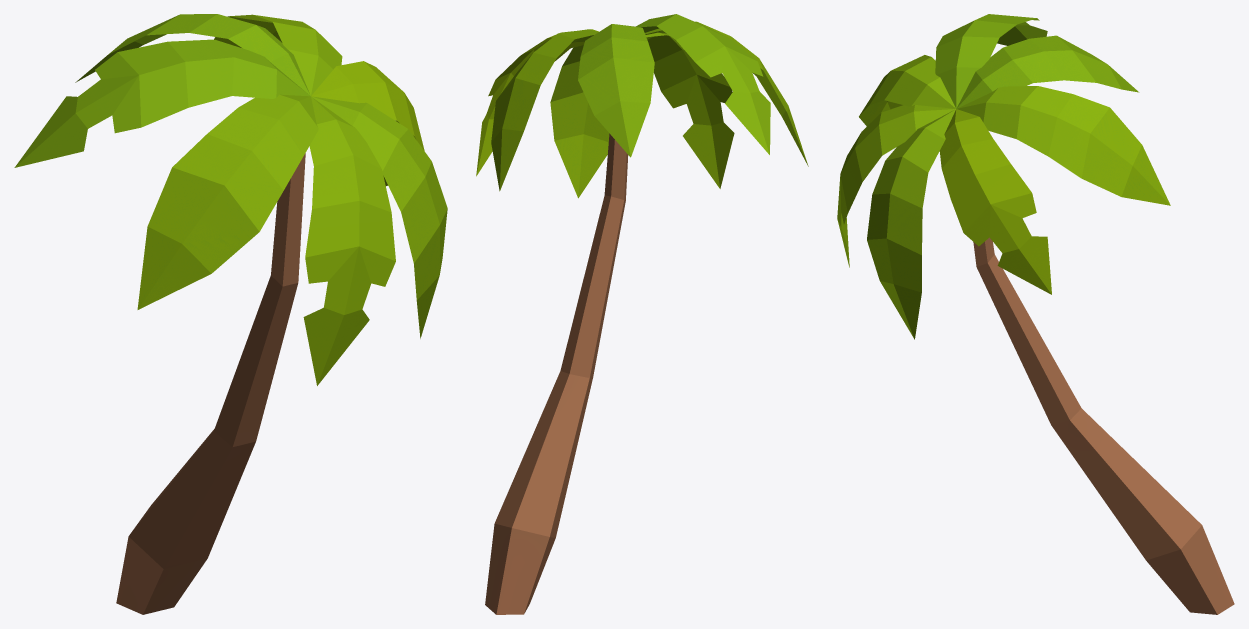
The model's file is palm3.fbx.
The picture shows the model from 3 angles, left to right: view 1: azimuth 30°, elevation 25°; view 2: azimuth 150°, elevation 25°; view 3: azimuth 270°, elevation 25°; orthographic projection. The views are drawn at different scales.
Visible parts, largest first — view 1: palm-angle; view 2: palm-angle; view 3: palm-angle.
Part boxes in pixels (left/top/right/bottom): palm-angle: left=14, top=14, right=447, bottom=614; palm-angle: left=476, top=14, right=808, bottom=614; palm-angle: left=837, top=14, right=1234, bottom=614.
Bounding box in the file's own units: 244 × 415 × 275.
1 material, 1 textured.
